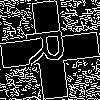R: (25, 25, 75, 67)
